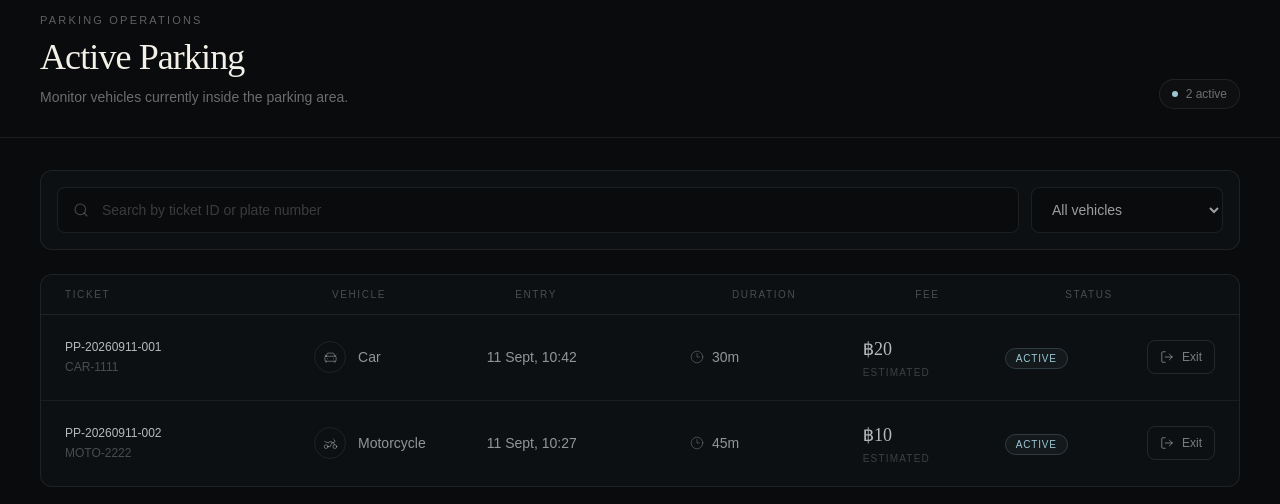
Scenario: Active Parking page › searches active parking by plate number
This screenshot has width=1280, height=504.
Check: the text "PP-20260911-001" is shown, box [65, 340, 162, 354]
Type "MOTO-2222" into the field with placeholder "Search by ticket ID or plate number". click: (538, 210)
box: [57, 186, 1019, 232]
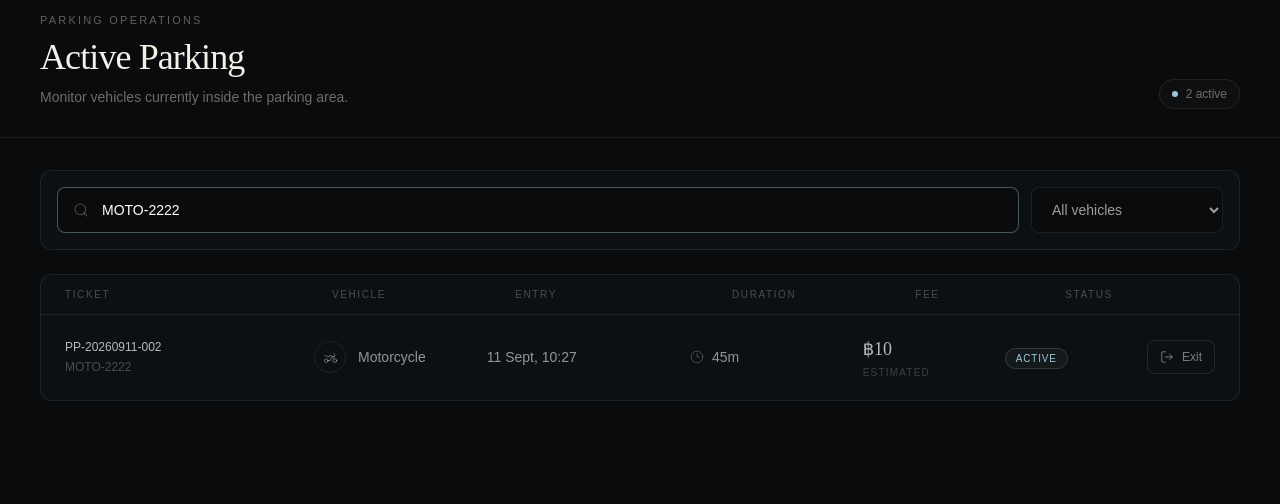
Check: the text "MOTO-2222" is shown, box [65, 360, 132, 374]
Check: the text "CAR-1111" is gone
